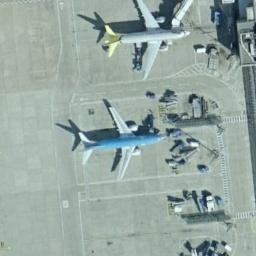Airplane: (66, 99, 168, 186), (94, 0, 192, 80)
